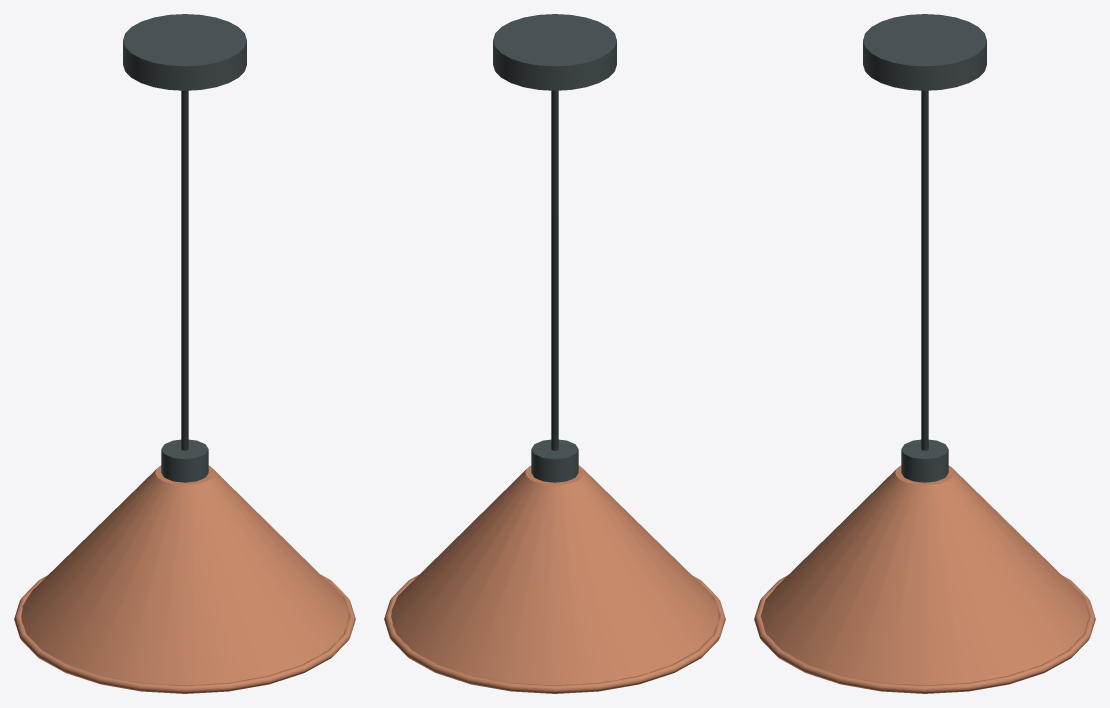
The model's file is lamp_pendant.glb.
The picture shows the model from 3 angles, left to right: view 1: azimuth 30°, elevation 25°; view 2: azimuth 150°, elevation 25°; view 3: azimuth 270°, elevation 25°; orthographic projection.
Parts seen in each view (by area): view 1: Pendant_Hollow_Shade, Pendant_Ceiling_Canopy, Pendant_Shade_Rim, Pendant_Cable, Pendant_Top_Collar; view 2: Pendant_Hollow_Shade, Pendant_Ceiling_Canopy, Pendant_Shade_Rim, Pendant_Cable, Pendant_Top_Collar; view 3: Pendant_Hollow_Shade, Pendant_Ceiling_Canopy, Pendant_Shade_Rim, Pendant_Cable, Pendant_Top_Collar.
Boxes of the visible parts, <box> form: Pendant_Hollow_Shade: <box>21,465,348,685</box>; Pendant_Ceiling_Canopy: <box>123,14,246,90</box>; Pendant_Shade_Rim: <box>14,574,355,693</box>; Pendant_Cable: <box>181,90,188,450</box>; Pendant_Top_Collar: <box>161,439,208,482</box>; Pendant_Hollow_Shade: <box>391,465,718,685</box>; Pendant_Ceiling_Canopy: <box>493,14,616,90</box>; Pendant_Shade_Rim: <box>384,574,725,693</box>; Pendant_Cable: <box>551,90,558,450</box>; Pendant_Top_Collar: <box>531,439,578,482</box>; Pendant_Hollow_Shade: <box>760,465,1089,685</box>; Pendant_Ceiling_Canopy: <box>863,14,986,90</box>; Pendant_Shade_Rim: <box>754,575,1095,693</box>; Pendant_Cable: <box>921,90,928,450</box>; Pendant_Top_Collar: <box>901,439,948,482</box>.
Size of the model in its own units: 0.634 by 1.22 by 0.634.
